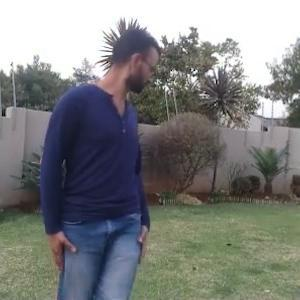follow: (36, 11, 161, 299)
